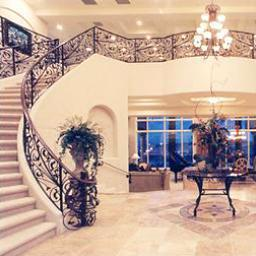Escaleras: (0, 28, 93, 255)
Matera: (58, 123, 106, 183)
